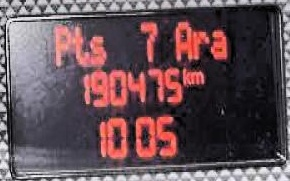0: (133, 113, 154, 157), (106, 115, 126, 158), (107, 68, 126, 105)
1: (95, 117, 106, 158), (80, 68, 90, 105)
4: (127, 68, 144, 102)
5: (155, 112, 176, 157), (163, 65, 180, 101)
7: (137, 20, 158, 63), (146, 65, 163, 103)
9: (89, 68, 107, 107)
X: (172, 18, 191, 60), (69, 23, 88, 63), (52, 23, 69, 65), (191, 27, 210, 58), (209, 27, 227, 58), (88, 33, 104, 65), (191, 68, 205, 83), (181, 63, 190, 85)
